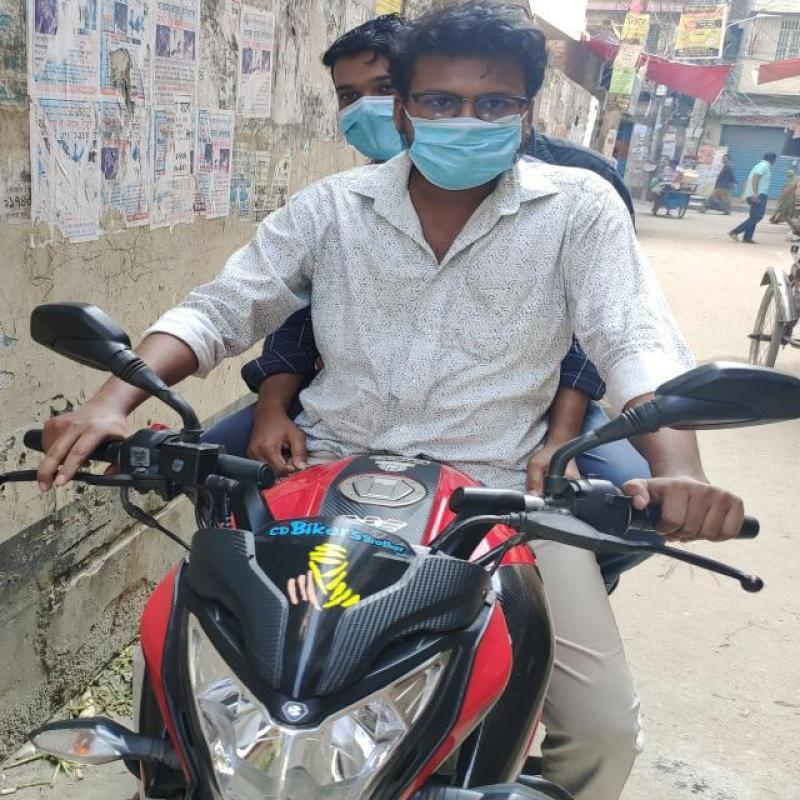nohelmet: (378, 0, 564, 210)
